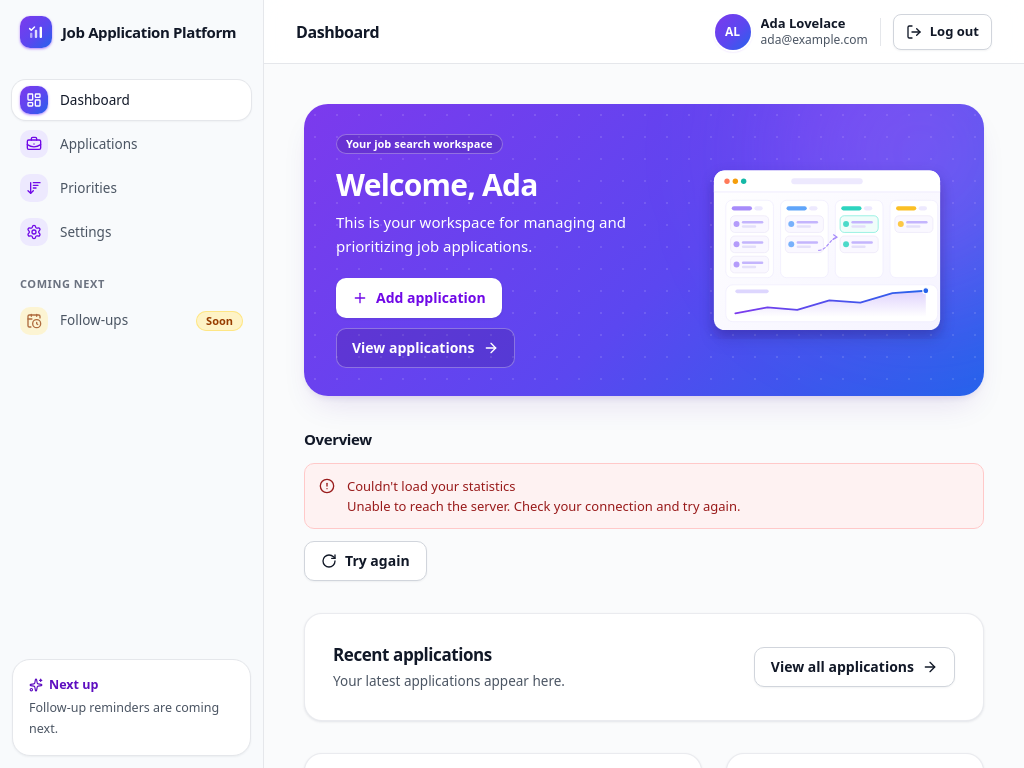
Test case: logout and expiry › logging out clears the session and returns to login
Click the button "Log out" at (942, 32), box [893,14,992,50]
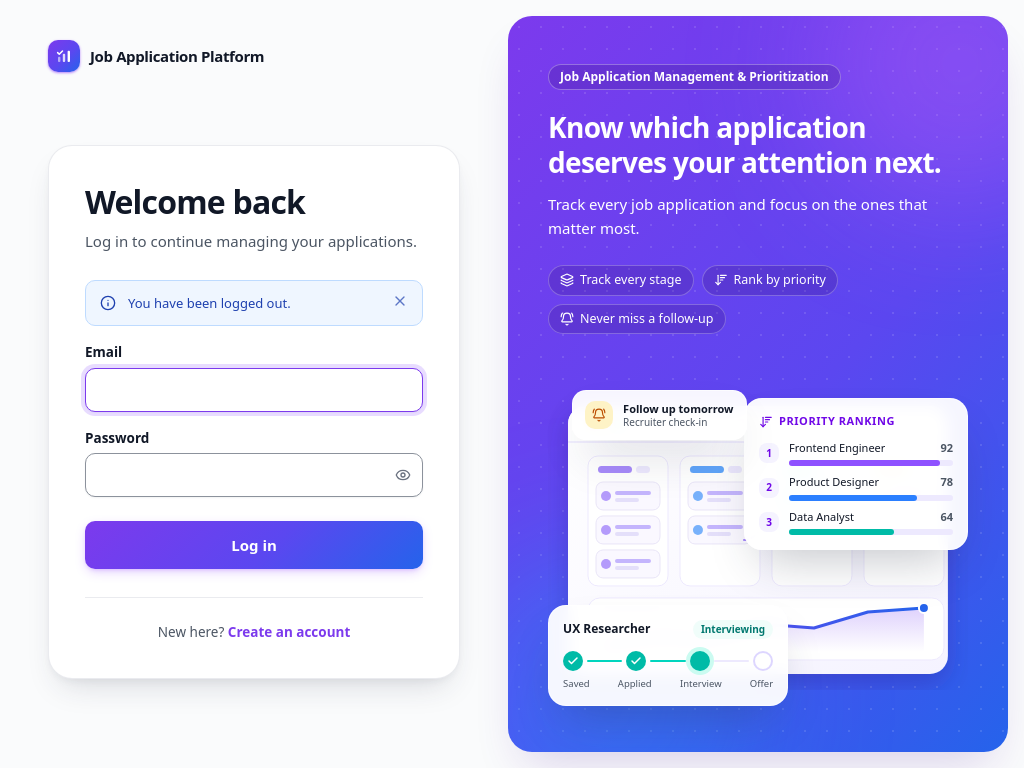
Check: the message reads "You have been logged out.", box [128,294,291,312]
